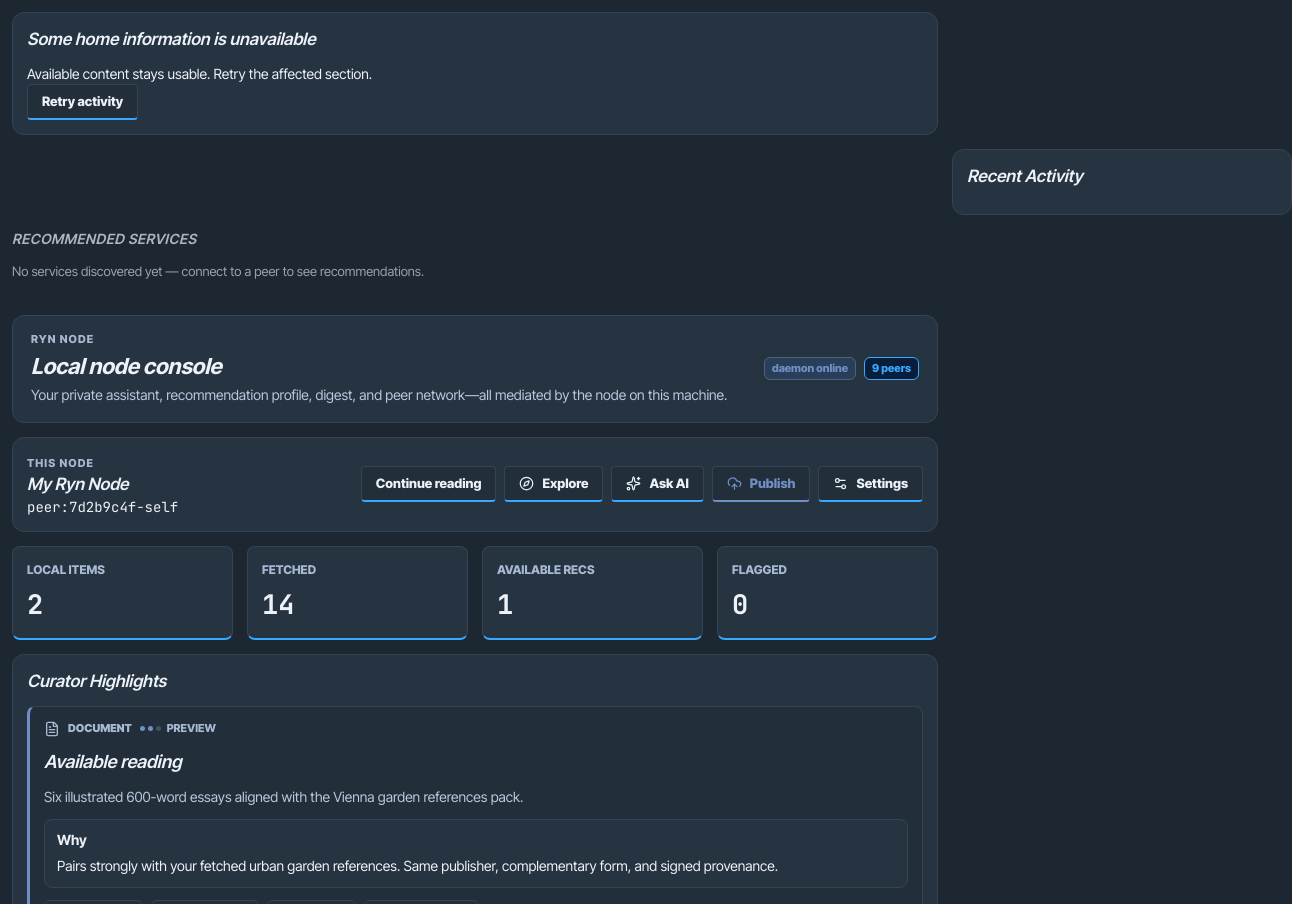
Test: shows an activity failure without losing content and retries only activity
Expected: the heading "Available reading" is shown, [44, 751, 182, 772]
Click the button "Retry activity" at (83, 102), box [27, 84, 138, 120]
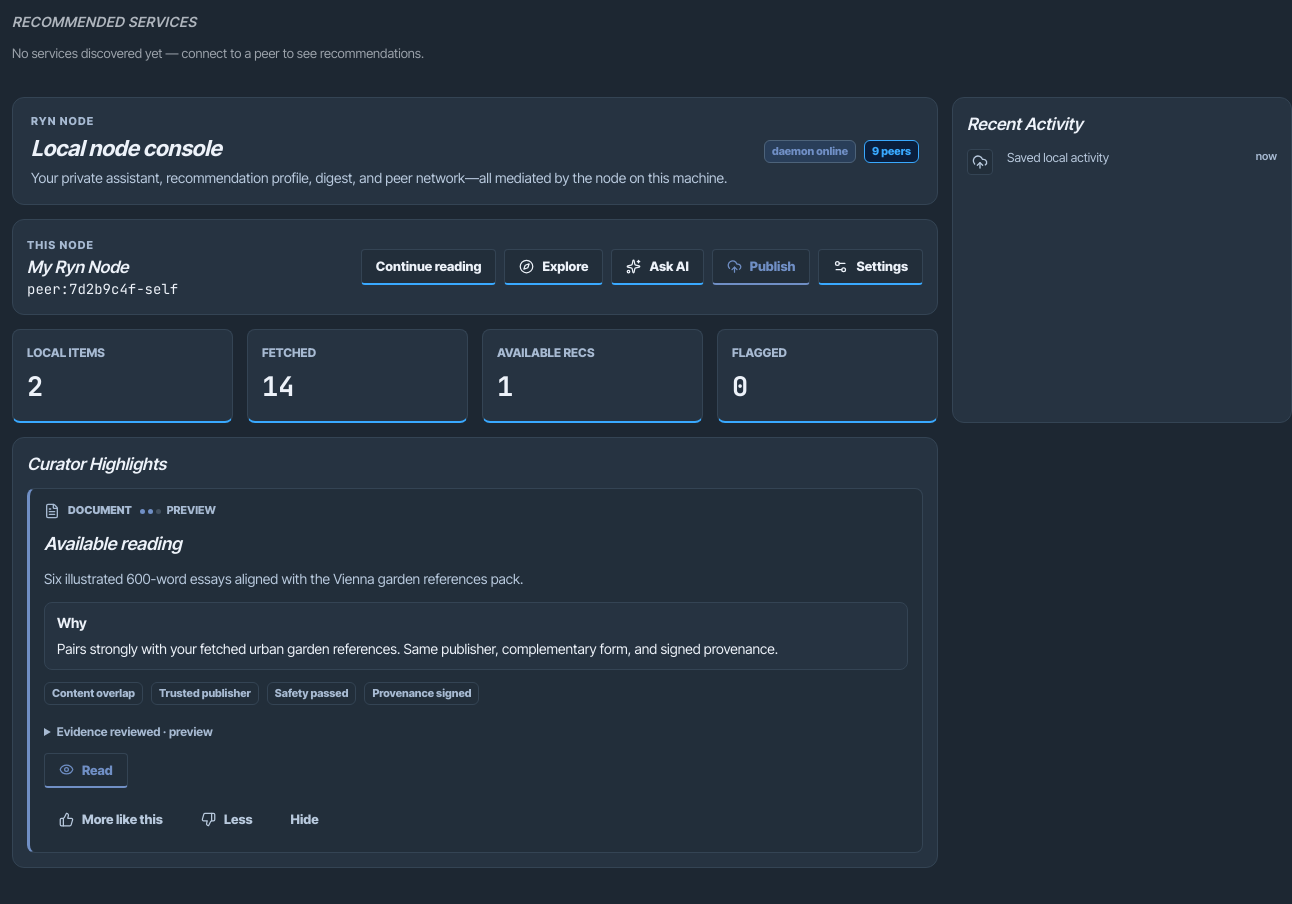
Result: the text "Saved local activity" is shown at [1007, 150, 1109, 165]
Result: the button "Retry activity" is gone
